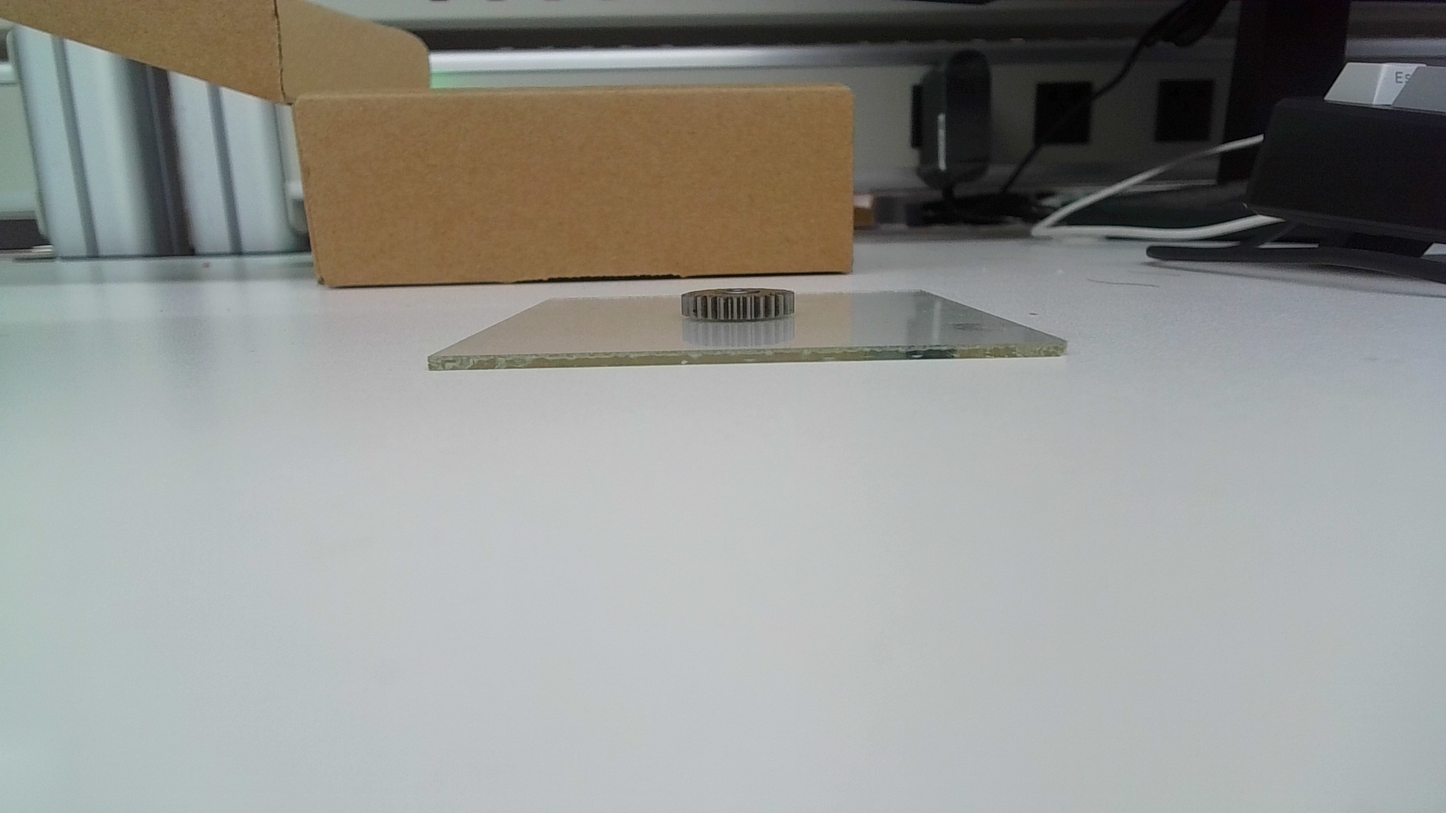gear: (680, 285, 798, 324)
